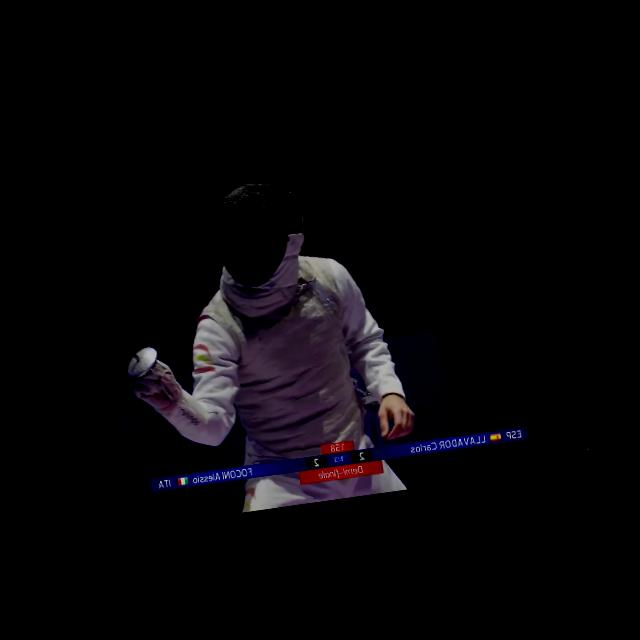blade: (0, 176, 178, 425)
